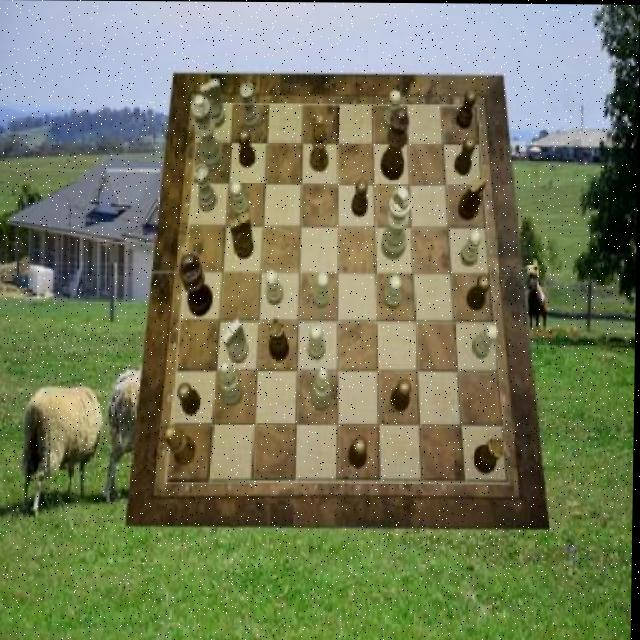bishop: (167, 426, 198, 466), (312, 114, 330, 172)
black-bishop: (179, 253, 214, 317)
black-king: (459, 175, 488, 221), (231, 214, 256, 260)
black-knight: (467, 275, 491, 311), (457, 89, 477, 129), (180, 383, 203, 417), (455, 136, 475, 175), (391, 379, 412, 413), (238, 129, 256, 168), (352, 179, 369, 217), (350, 436, 369, 468)
black-pawn: (381, 107, 410, 181)
black-queen: (474, 435, 507, 473), (269, 317, 291, 361)
black-rook: (220, 360, 245, 405), (311, 367, 332, 409)
white-bishop: (382, 185, 412, 260)
white-king: (223, 318, 251, 364), (202, 78, 227, 127)
white-knight: (473, 325, 499, 359), (231, 180, 252, 218), (461, 229, 483, 265), (383, 90, 401, 132), (313, 271, 331, 309), (266, 269, 285, 304), (310, 323, 328, 359), (384, 275, 402, 309)
white-pawn: (190, 93, 225, 171)
white-queen: (195, 164, 218, 212), (240, 83, 262, 132)
